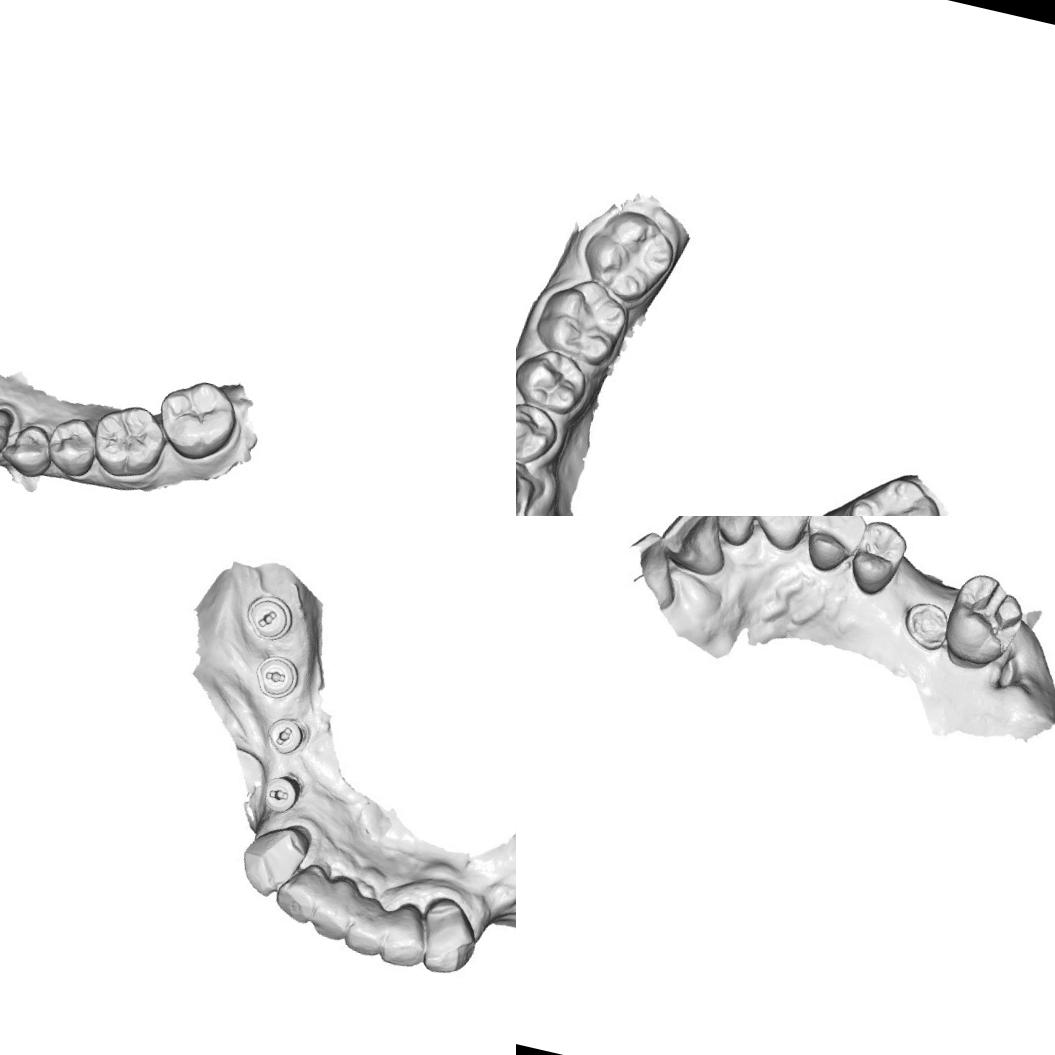canine: (412, 889, 488, 984), (236, 813, 316, 902), (742, 516, 817, 556), (516, 454, 551, 516), (0, 397, 18, 464)
implant_minus: (232, 579, 302, 651), (258, 706, 322, 769), (250, 646, 312, 711), (254, 764, 314, 822)
incisor: (653, 516, 742, 583), (380, 900, 431, 969), (345, 892, 398, 956), (313, 874, 361, 935), (279, 857, 325, 920), (699, 516, 766, 551)
inlay: (946, 572, 1030, 660)
molar: (575, 204, 681, 306), (534, 272, 638, 370), (148, 371, 246, 469), (83, 397, 174, 487), (838, 465, 947, 516)
premolar: (516, 342, 593, 419), (845, 516, 913, 602), (794, 516, 870, 580), (41, 410, 104, 482), (0, 416, 58, 482), (516, 398, 562, 468)
